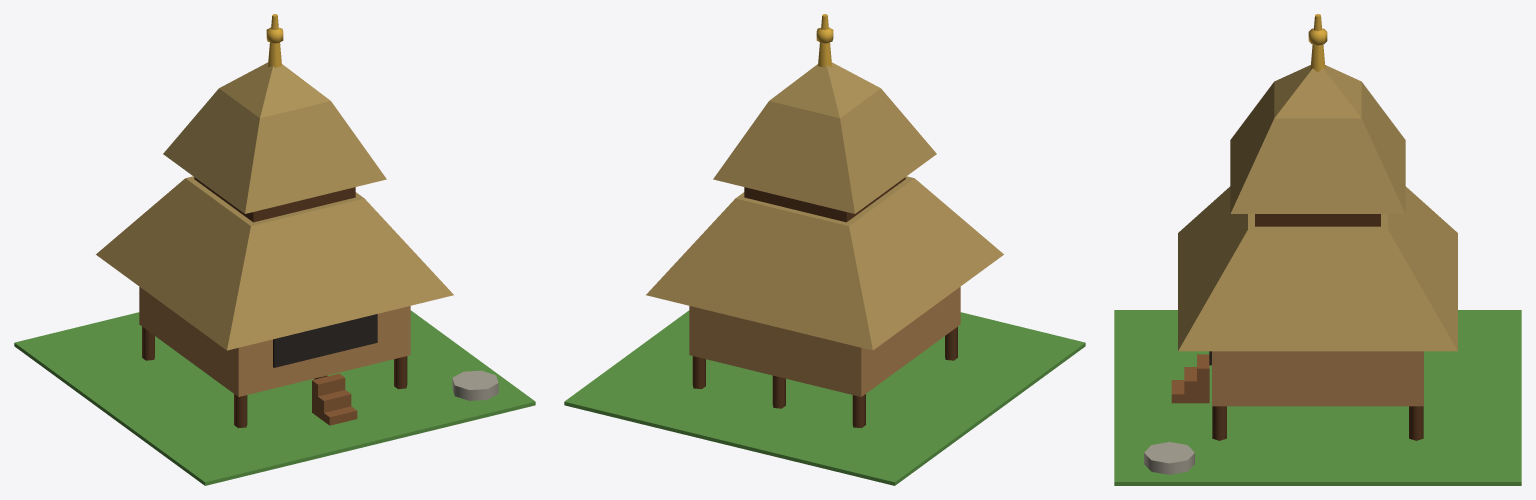
Rendered from building_surau.glb.
3 renders of one model, left to right at view 1: azimuth 30°, elevation 25°; view 2: azimuth 150°, elevation 25°; view 3: azimuth 270°, elevation 25°, orthographic. The views are drawn at different scales.
Parts seen in each view (by area): view 1: building_surau; view 2: building_surau; view 3: building_surau.
Part boxes in pixels (x1,y1,x2,y2): building_surau: [14, 14, 535, 485]; building_surau: [564, 14, 1085, 485]; building_surau: [1114, 14, 1521, 485].
Size of the model in its own units: 0.96 by 1 by 0.96.
